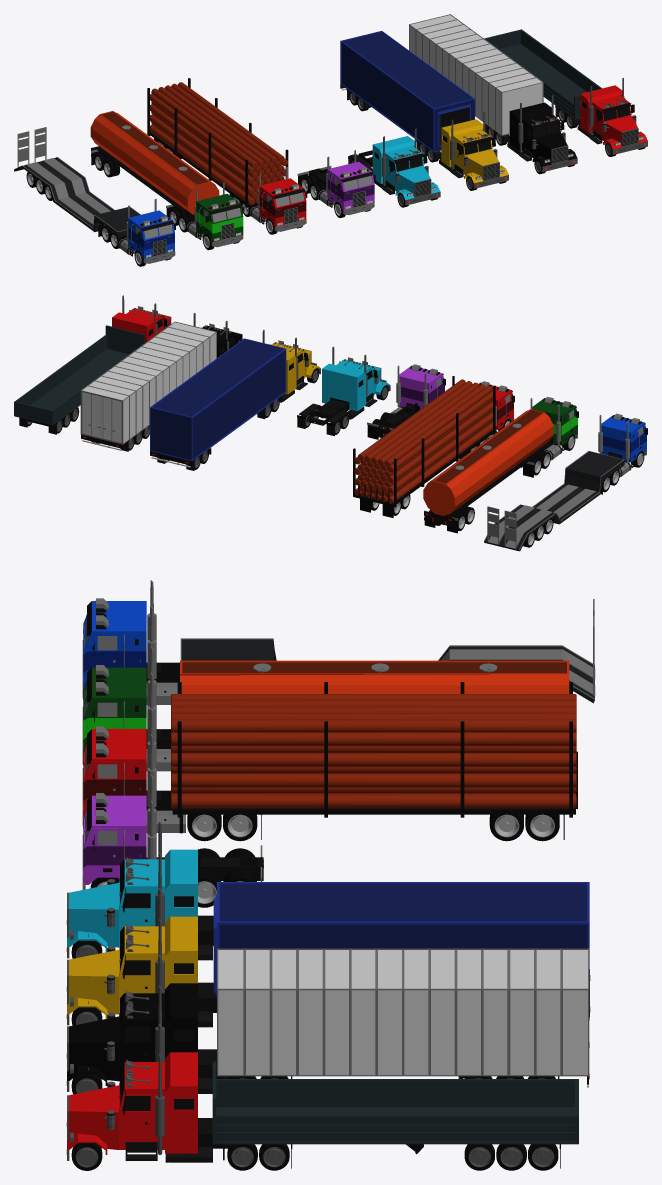
File: truck.obj
3 renders of one model, top to bottom at view 1: azimuth 30°, elevation 25°; view 2: azimuth 150°, elevation 25°; view 3: azimuth 270°, elevation 25°, orthographic. The views are drawn at different scales.
Parts seen in each view (by area): view 1: Truck_7_backside, Truck_8_backside, Cylinder.100, Trck_4_back, Cylinder.099, Truck_back_1, Cube.285, Cube.023, Truck_back_2, Cube.276, Cube.055, Cube.200 (+21 smaller); view 2: Truck_7_backside, Truck_8_backside, Cylinder.100, Truck_back_1, Trck_4_back, Cylinder.099, Cube.285, Truck_back_2, Cube.233, Cube.023, Cube.276, Cube (+18 smaller); view 3: Truck_8_backside, Truck_back_1, Cylinder.100, Cylinder.099, Truck_7_backside, Trck_4_back, Cube.285, Cube.055, Cube.200, Cube.231, Cube.169, Cylinder.105 (+23 smaller).
Boxes of the visible parts, left/top/right/bottom form: Truck_7_backside: left=341, top=32, right=473, bottom=151; Truck_8_backside: left=409, top=15, right=542, bottom=134; Cylinder.100: left=151, top=82, right=284, bottom=198; Trck_4_back: left=90, top=111, right=219, bottom=214; Cylinder.099: left=150, top=94, right=287, bottom=205; Truck_back_1: left=484, top=29, right=601, bottom=119; Cube.285: left=409, top=14, right=543, bottom=135; Cube.023: left=26, top=158, right=110, bottom=224; Truck_back_2: left=24, top=158, right=139, bottom=231; Cube.276: left=340, top=31, right=474, bottom=152; Cube.055: left=592, top=95, right=637, bottom=145; Cube.200: left=522, top=112, right=567, bottom=162; Truck_7_backside: left=151, top=340, right=284, bottom=460; Truck_8_backside: left=82, top=322, right=216, bottom=442; Cylinder.100: left=358, top=379, right=492, bottom=497; Truck_back_1: left=14, top=325, right=145, bottom=425; Trck_4_back: left=423, top=409, right=553, bottom=515; Cylinder.099: left=354, top=391, right=492, bottom=503; Cube.285: left=80, top=321, right=216, bottom=444; Truck_back_2: left=495, top=451, right=622, bottom=532; Cube.233: left=322, top=363, right=365, bottom=411; Cube.023: left=488, top=484, right=595, bottom=548; Cube.276: left=150, top=338, right=286, bottom=461; Cube: left=601, top=415, right=646, bottom=462; Truck_8_backside: left=218, top=950, right=587, bottom=1074; Truck_back_1: left=212, top=1061, right=578, bottom=1144; Cylinder.100: left=171, top=694, right=576, bottom=793; Cylinder.099: left=171, top=732, right=576, bottom=808; Truck_7_backside: left=219, top=884, right=587, bottom=948; Trck_4_back: left=180, top=660, right=569, bottom=693; Cube.285: left=217, top=948, right=589, bottom=1076; Cube.055: left=69, top=1062, right=164, bottom=1149; Cube.200: left=69, top=993, right=164, bottom=1081; Cube.231: left=69, top=859, right=164, bottom=947; Cube.169: left=69, top=926, right=164, bottom=1014; Cylinder.105: left=182, top=662, right=566, bottom=673.
Bounding box in the file's own units: 49.37 × 5.83 × 22.38.
